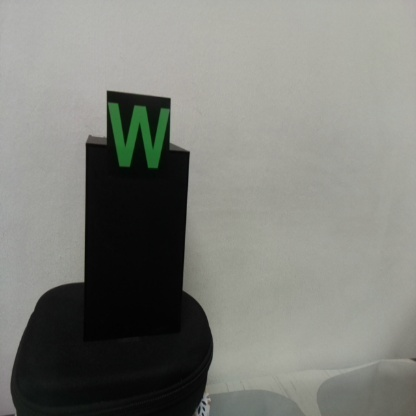id_12: (106, 91, 172, 185)
